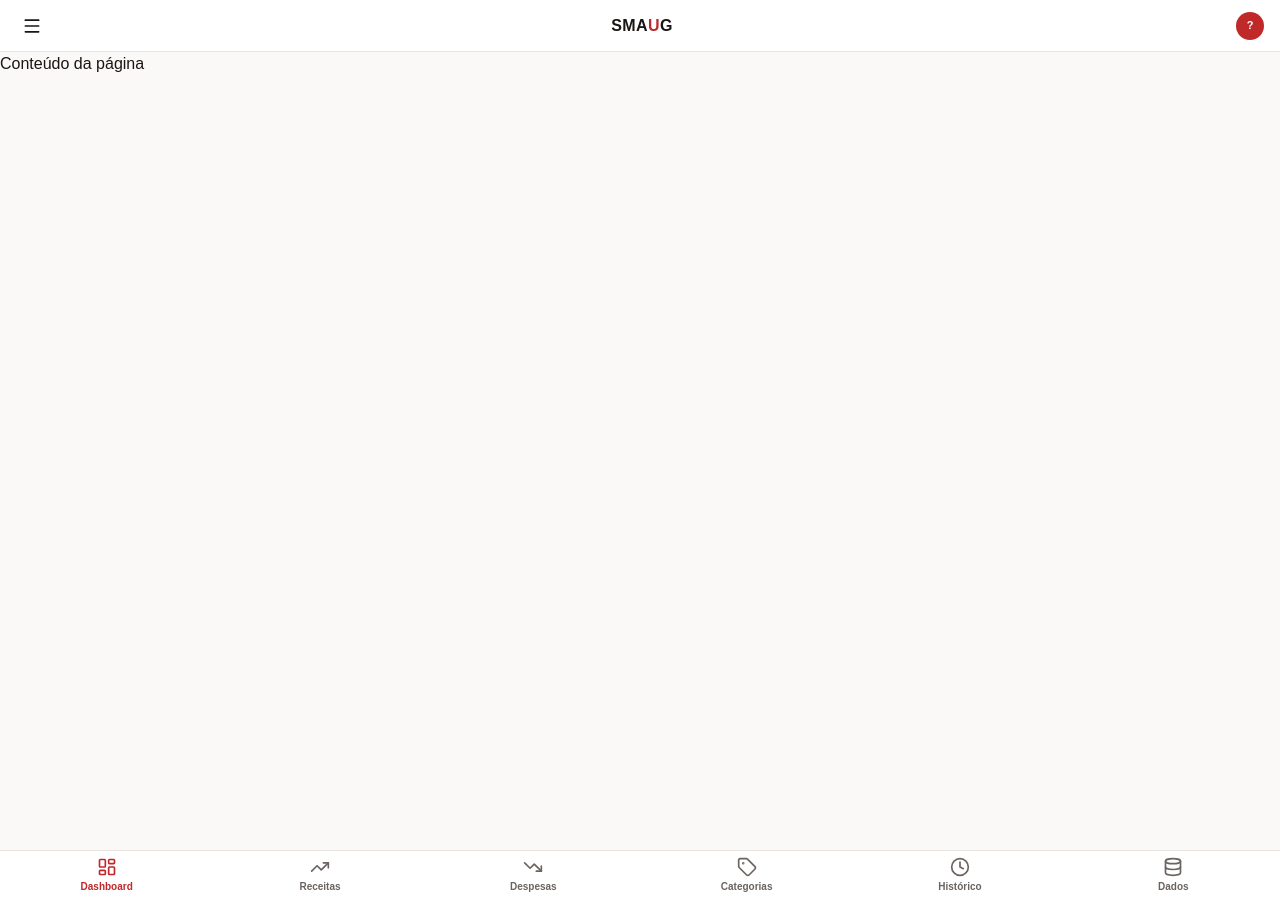
AppShell no mobile › Abrir menu revela a sidebar
This screenshot has width=1280, height=900.
Click the button named "Abrir menu" at x=32, y=26, box [16,10,48,42]
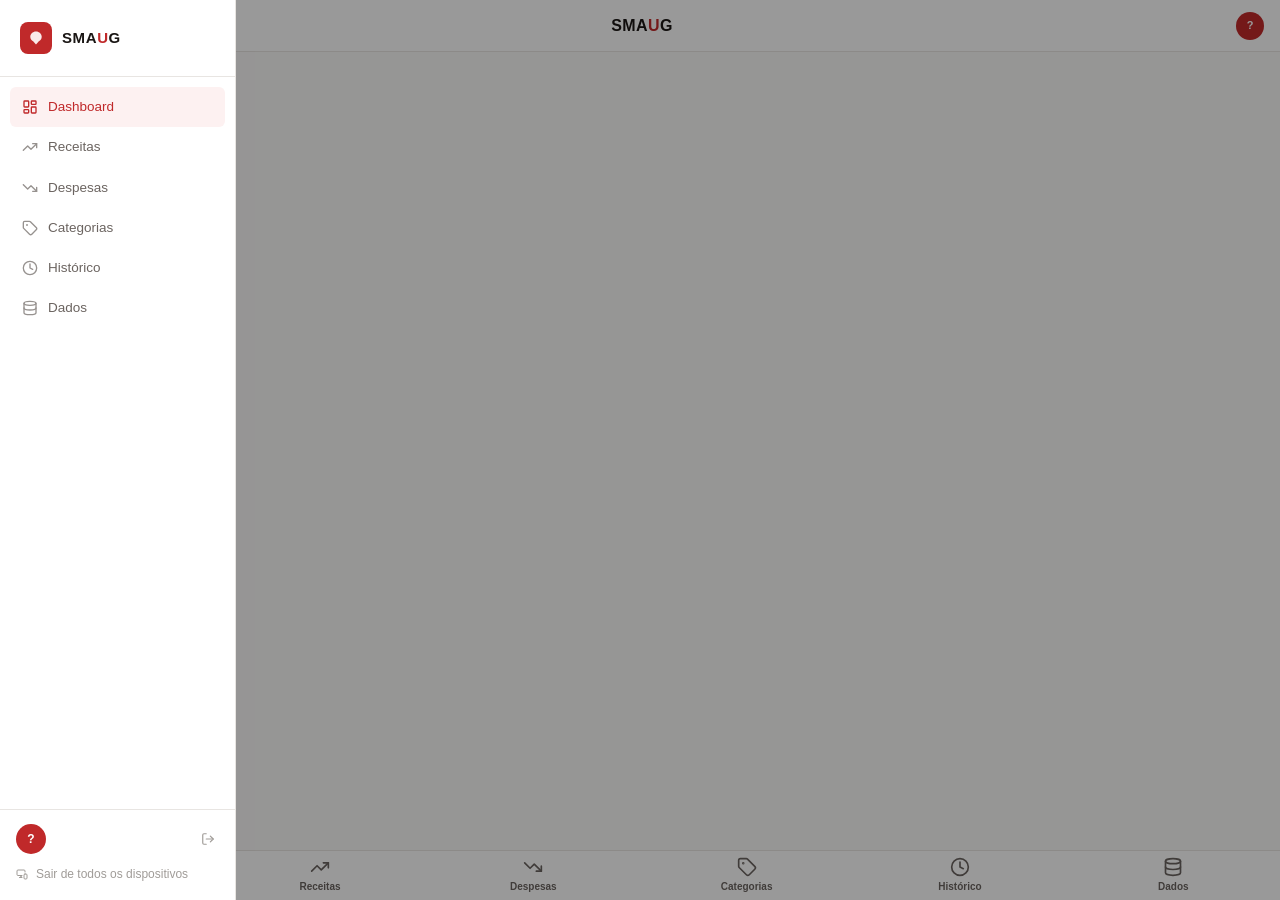
Check: the navigation bar named "Navegação principal" is shown, box [10,87,225,316]
